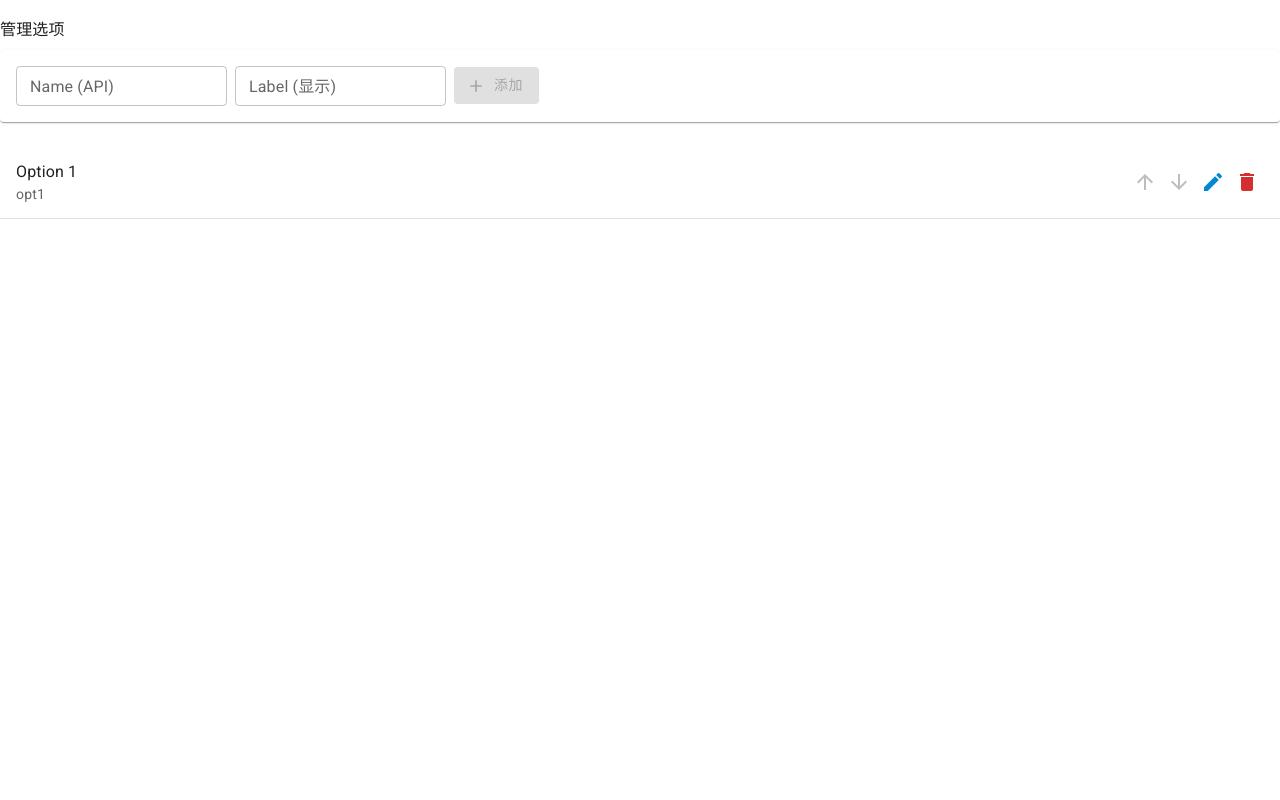
Test case: PicklistOptionsEditor › deletes an option without migration
Click the button with test id "delete-option-opt1". click: click(1247, 182)
box: 1230,165 -> 1264,199
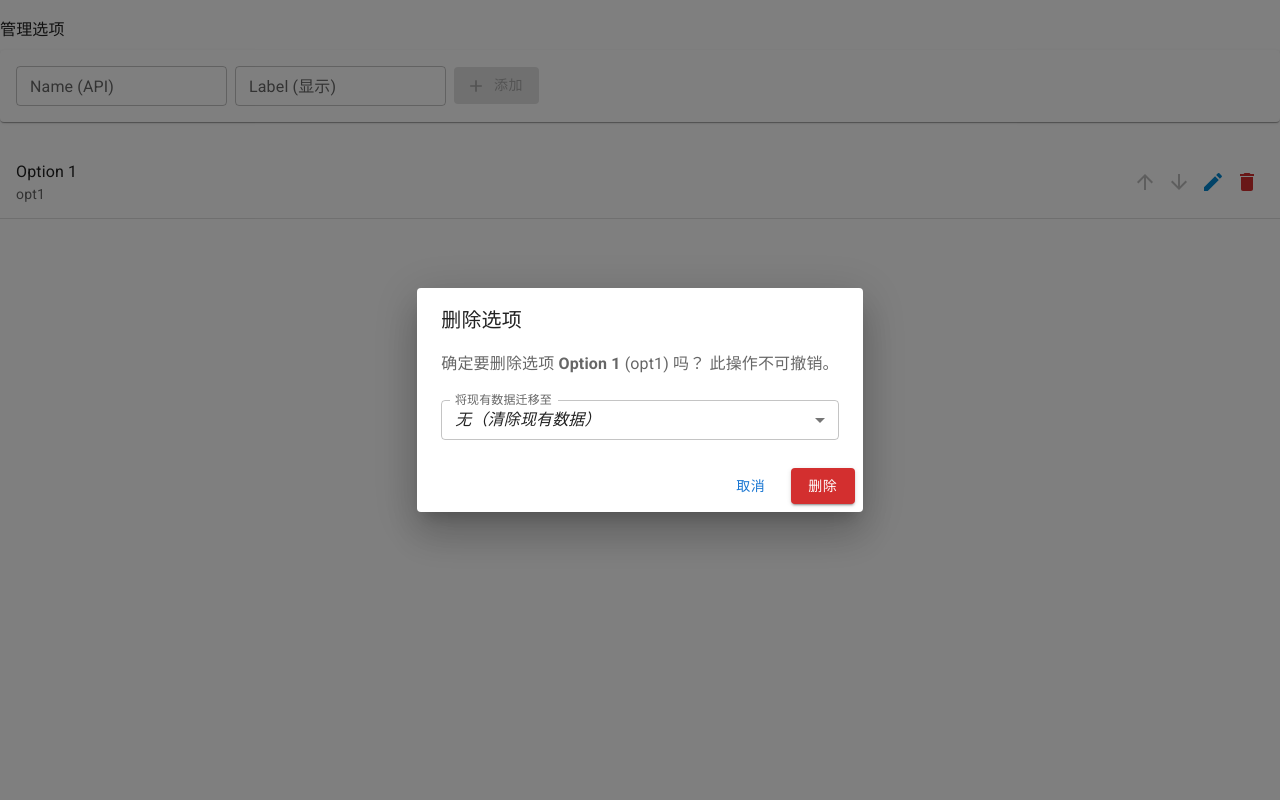
expect the text "确定要删除选项 Option 1 (opt1) 吗？ 此操作不可撤销。" is shown: met, box 441,352 -> 839,376
Click delete in dialog (which is red button with "删除" text)
Click the button "删除". click: click(823, 486)
box: 791,468 -> 855,504
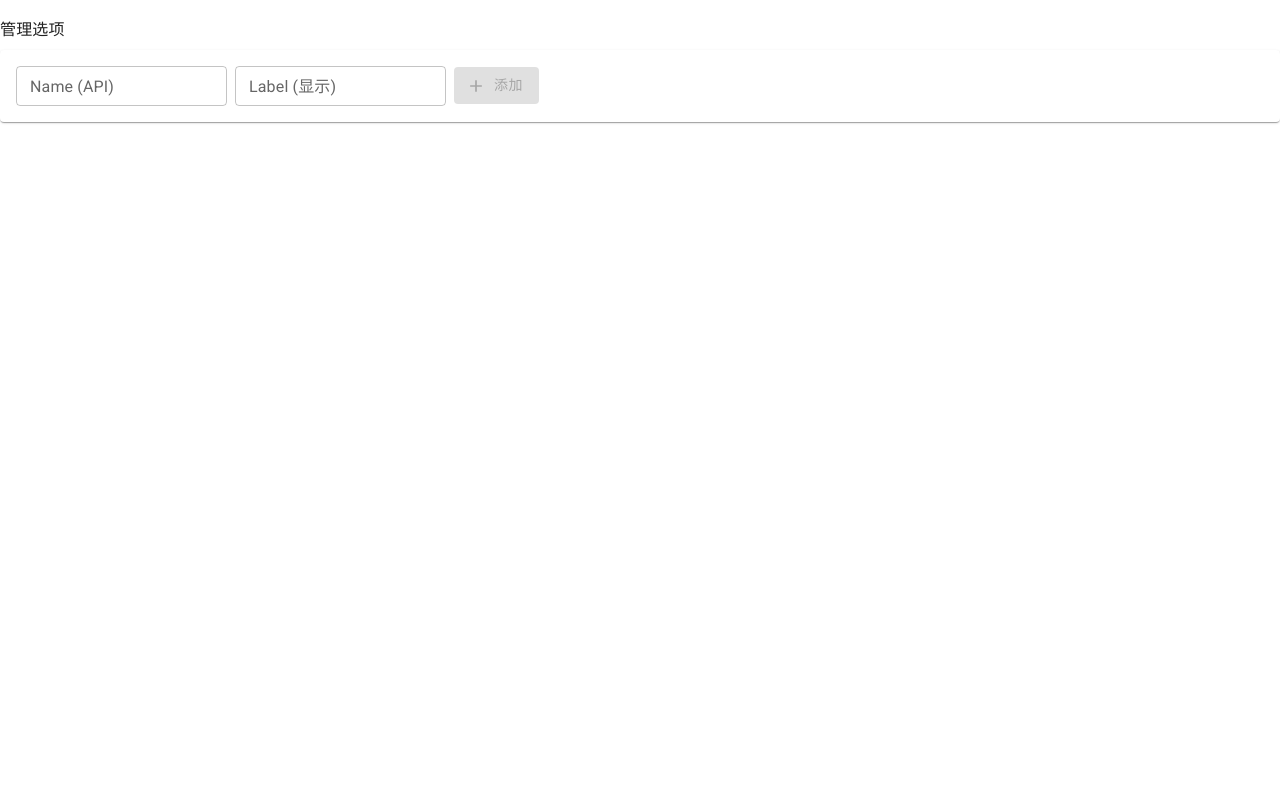
expect the text "Option 1" is gone: met
